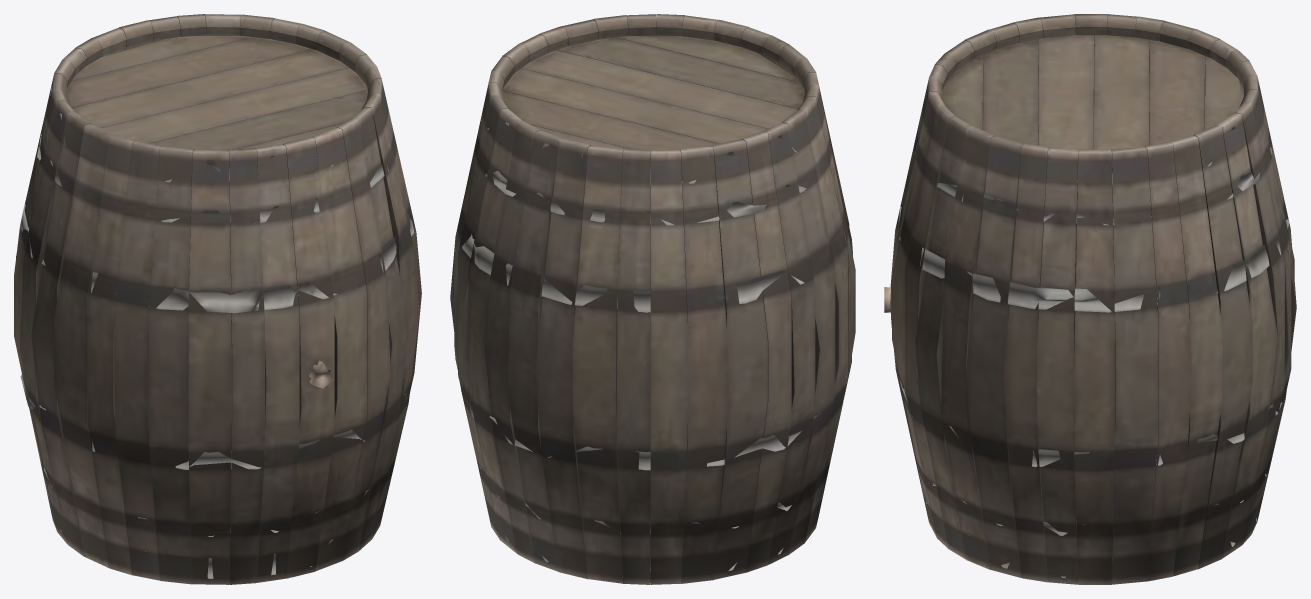
The model's file is wine_barrel_01.glb.
3 views of the same model, side by side, from view 1: azimuth 30°, elevation 25°; view 2: azimuth 150°, elevation 25°; view 3: azimuth 270°, elevation 25° (orthographic).
Visible parts, largest first — view 1: wine_barrel_01_Lid; view 2: wine_barrel_01_Lid; view 3: wine_barrel_01_Lid.
Part boxes in pixels (x1,y1,x2,y2): wine_barrel_01_Lid: (14, 14, 421, 584); wine_barrel_01_Lid: (450, 14, 855, 584); wine_barrel_01_Lid: (884, 14, 1296, 584).
Size of the model in its own units: 0.7419 by 0.8695 by 0.7521.
Materials: 1 (1 with a texture image).
